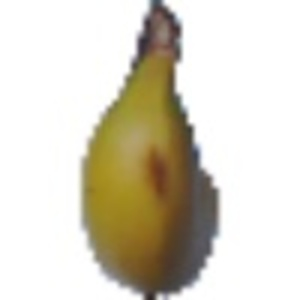banana: (74, 3, 220, 293)
